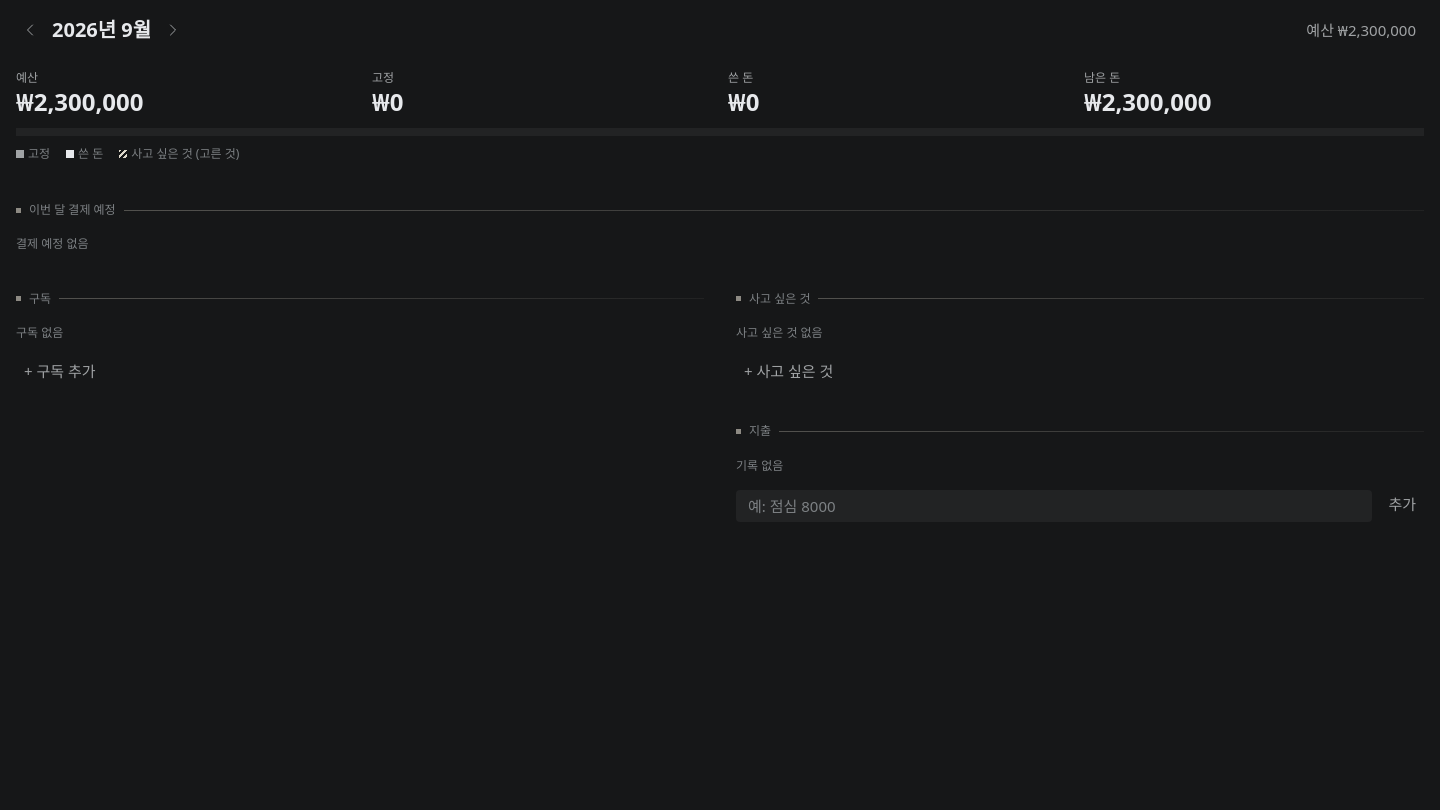
Test: quick input parses a name and amount, never submitting during composition
In the field named "지출 빠른 입력": (1054, 506) [736,490,1372,522], type "점심 8,000"
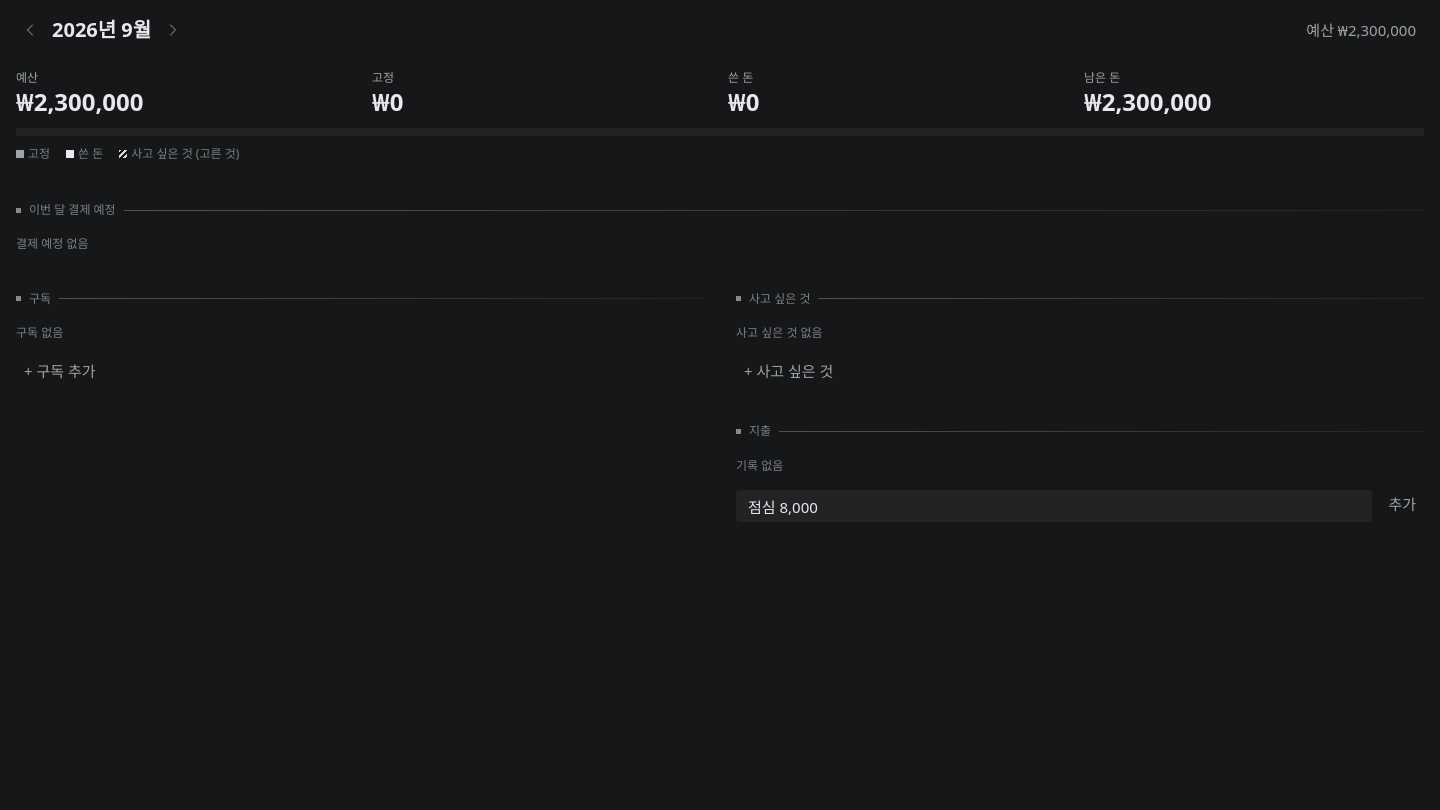
Press Enter in the field named "지출 빠른 입력", box [736,490,1372,522]
Press Enter in the field named "지출 빠른 입력", box [736,490,1372,522]
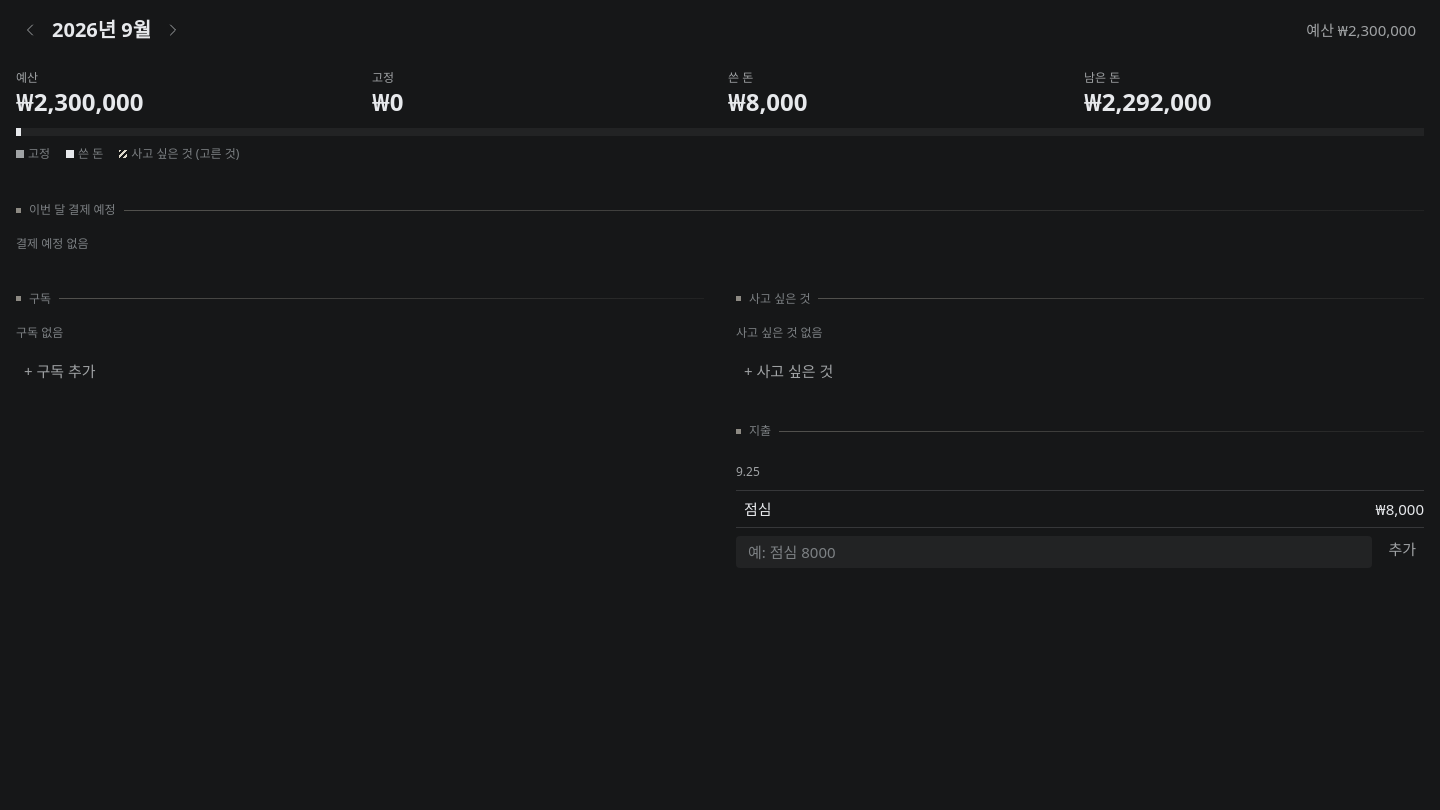
Now the field named "지출 빠른 입력" is empty
In the field named "지출 빠른 입력": (1054, 552) [736,536,1372,568], type "잘못된 입력"
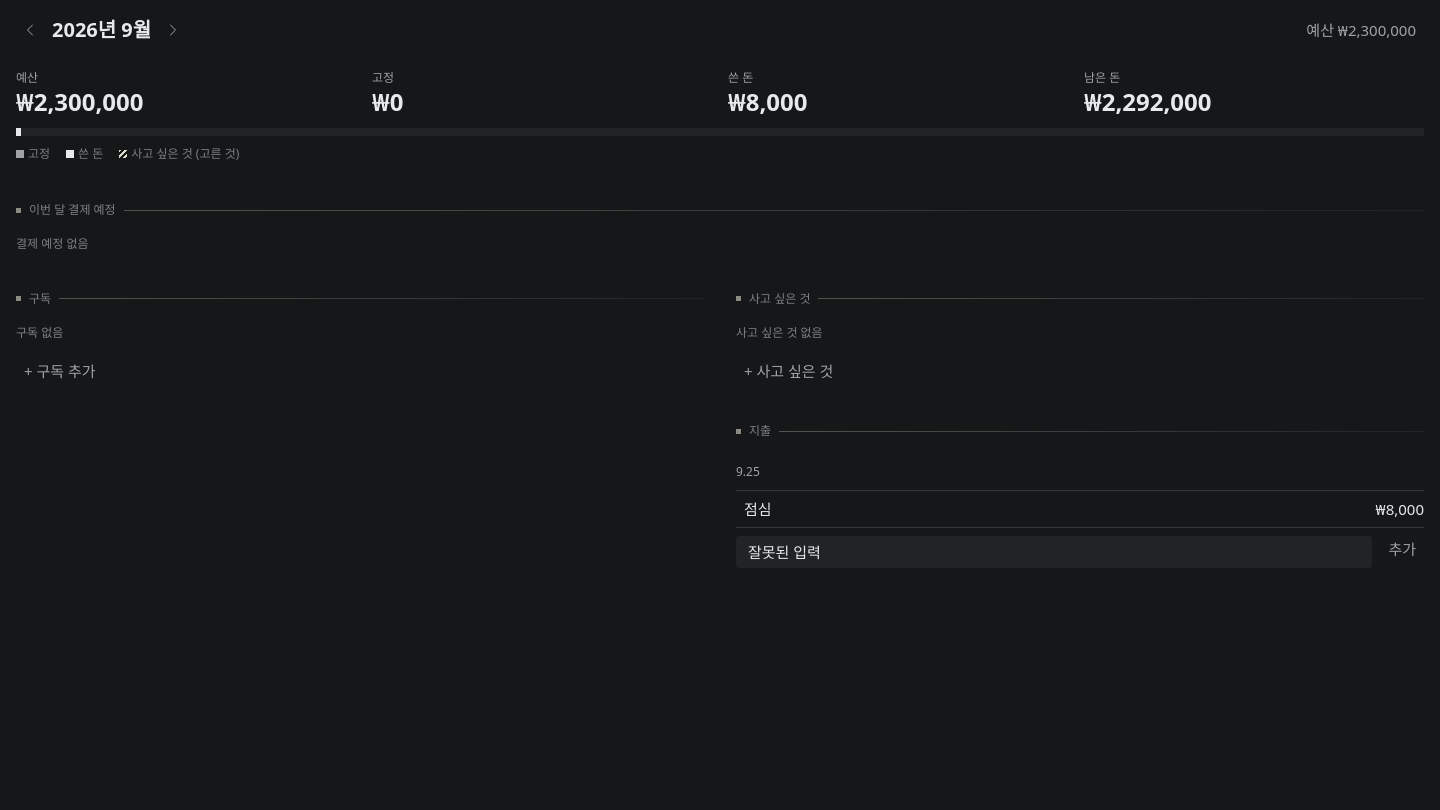
Press Enter in the field named "지출 빠른 입력", box [736,536,1372,568]
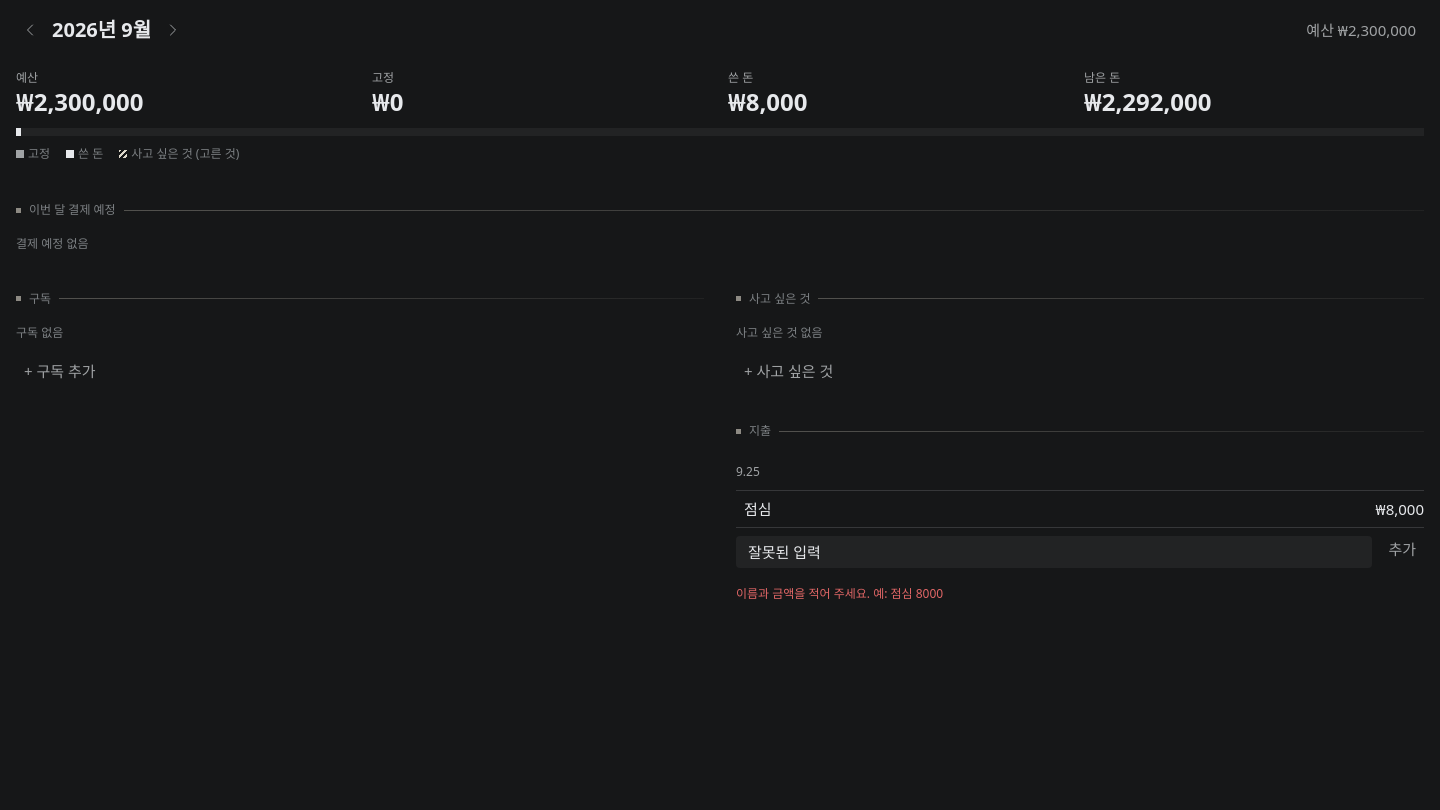
Now the message shows "이름과 금액", box [736,585,943,602]
